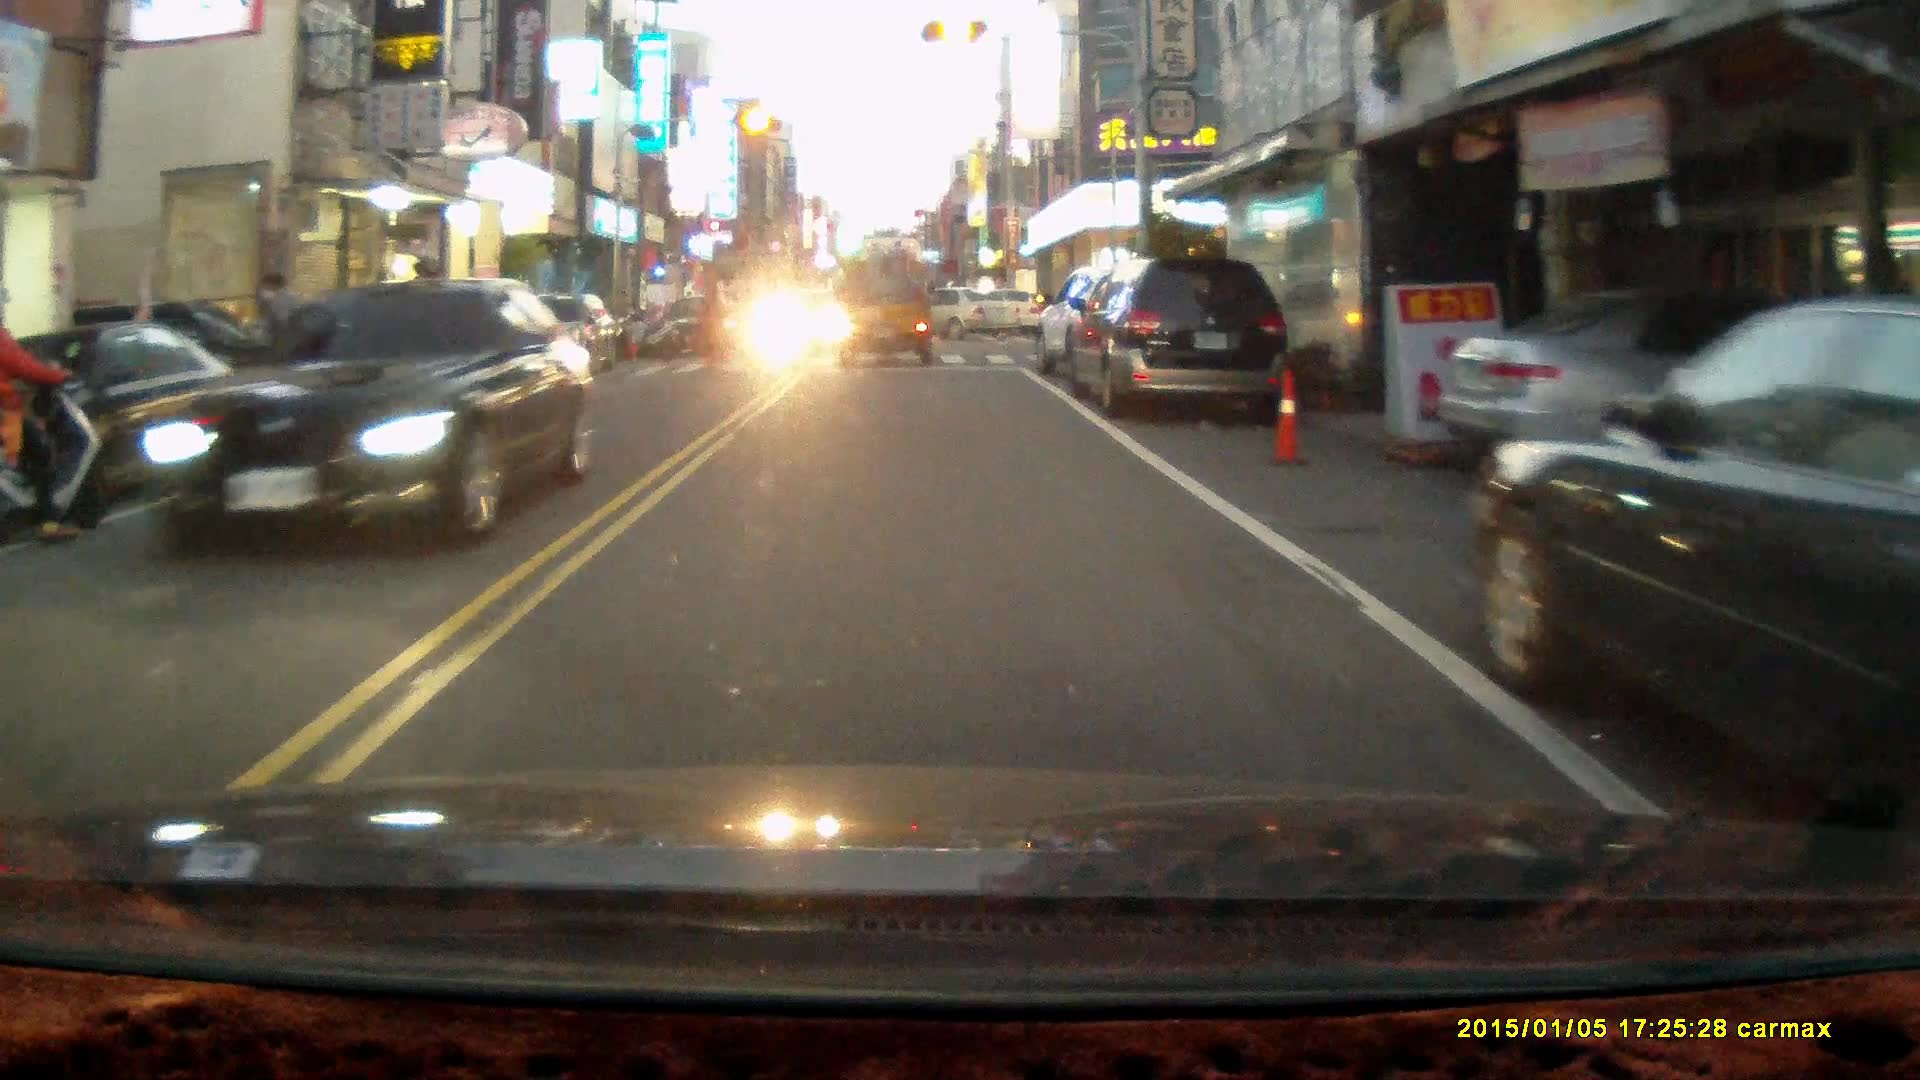pedestrian: (692, 275, 728, 376)
rider: (0, 286, 116, 548)
vehicle: (1475, 302, 1920, 819), (119, 277, 592, 562), (1434, 291, 1900, 502), (1063, 253, 1295, 423), (1034, 259, 1207, 398), (837, 257, 937, 368), (871, 285, 1016, 343), (659, 299, 746, 360)
